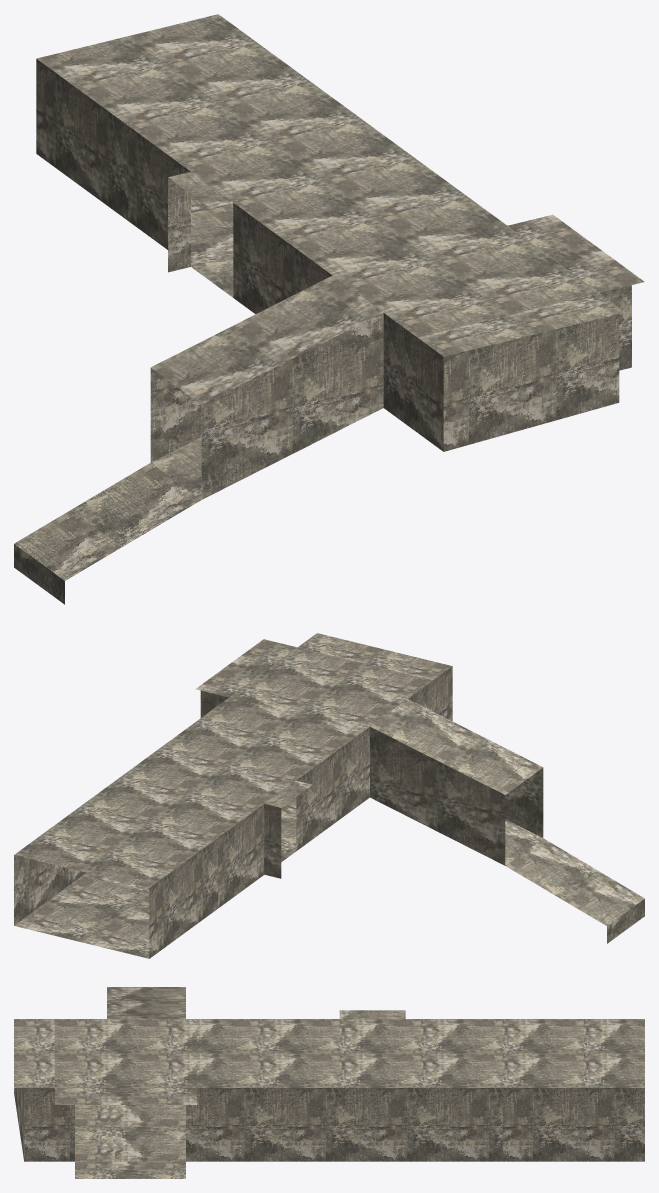
Rendered from Corridor.obj.
3 renders of one model, top to bottom at view 1: azimuth 30°, elevation 25°; view 2: azimuth 150°, elevation 25°; view 3: azimuth 270°, elevation 25°, orthographic. The views are drawn at different scales.
Parts seen in each view (by area): view 1: Corridor; view 2: Corridor; view 3: Corridor.
Boxes of the visible parts, box(x1,y1,x2,y2) form: Corridor: box(14, 14, 644, 604); Corridor: box(14, 633, 644, 958); Corridor: box(14, 987, 644, 1178).
Size of the model in its own units: 24 by 9 by 31.
1 material, 1 textured.
